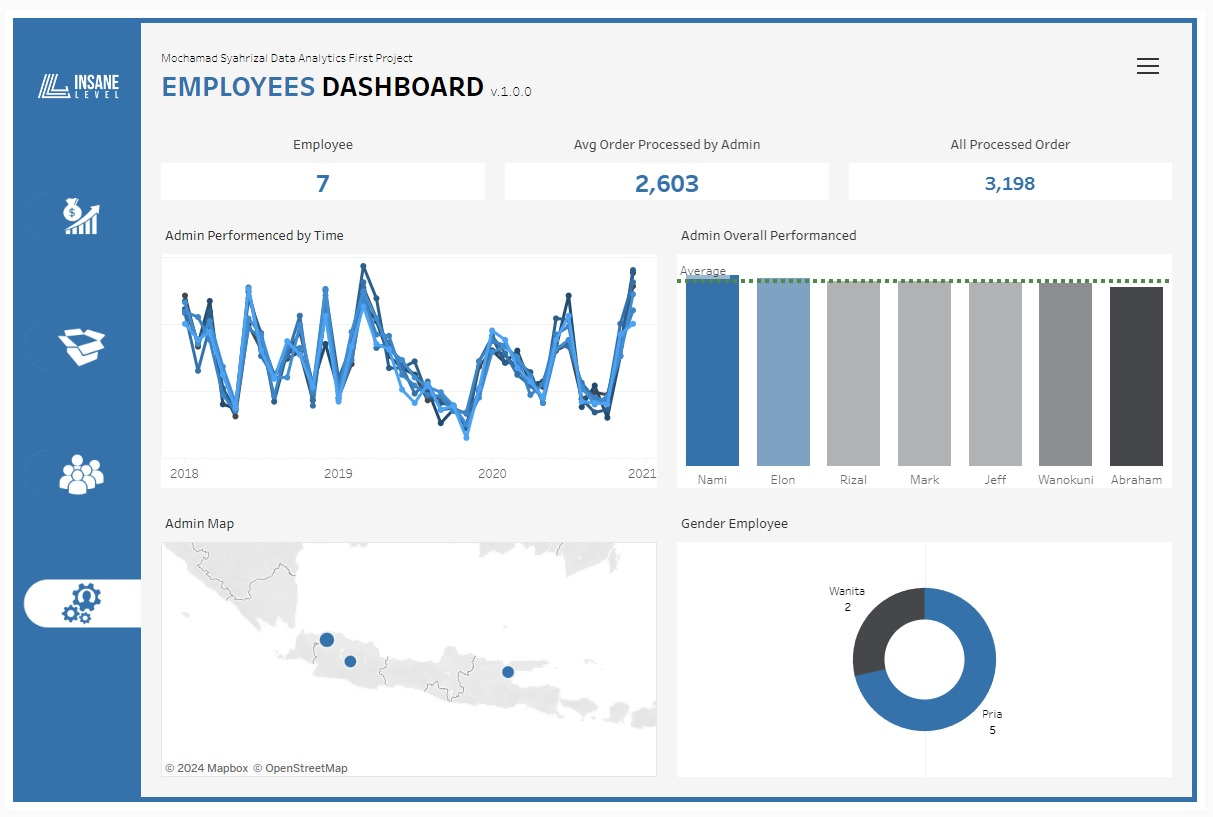

The page's visual inventory and layout, read from the dashboard file:
{"tool":"tableau","page":{"name":"Employee Dashboard","canvas":[1200,800],"ordinal":1},"visuals":[{"type":"image","param":"E:/Aset Desain/Icon PNG/Logo Insane Level-09 (1).png","box":[13,13,123,129]},{"type":"text","box":[145.8,23,639.2,86]},{"type":"blank","box":[785,23,392,86]},{"type":"dashboard-object","box":[1131,44,24,24]},{"type":"text","box":[915,46,213,46]},{"type":"blank","box":[915,92,213,32]},{"type":"worksheet","title":"Employee","mark":"Automatic","box":[146,109,344,91]},{"type":"worksheet","title":"Avg Order Processed by Admin","mark":"Automatic","box":[490,109,344,91]},{"type":"worksheet","title":"All Processed Order","mark":"Automatic","box":[834,109,343,91]},{"type":"filter","title":"Admin Performenced by Time","param":"[federated.01lx92d1nhccir14ncz2a186vefz].[none:tanggal_order:qk]","box":[915,124,213,81]},{"type":"dashboard-object","box":[13,142,123,129]},{"type":"worksheet","title":"Admin Performenced by Time","mark":"Automatic","rows":["admin_id"],"cols":["tanggal_order"],"box":[146,200,516,288]},{"type":"worksheet","title":"Admin Overall Performanced","mark":"Automatic","rows":["admin_id"],"cols":["nama"],"box":[662,200,515,288]},{"type":"blank","box":[915,205,213,32]},{"type":"filter","title":"Admin Performenced by Time","param":"[federated.01lx92d1nhccir14ncz2a186vefz].[none:nama:nk]","box":[915,237,213,64]},{"type":"dashboard-object","box":[13,271,123,129]},{"type":"blank","box":[915,301,213,32]},{"type":"filter","title":"Admin Performenced by Time","param":"[federated.01lx92d1nhccir14ncz2a186vefz].[none:domisili:nk]","box":[915,333,213,64]},{"type":"blank","box":[915,397,213,39]},{"type":"dashboard-object","box":[13,400,123,129]},{"type":"filter","title":"Admin Performenced by Time","param":"[federated.01lx92d1nhccir14ncz2a186vefz].[none:jenis_kelamin:nk]","box":[915,436,213,64]},{"type":"worksheet","title":"Admin Map","mark":"Automatic","box":[146,488,516,289]},{"type":"worksheet","title":"Gender Employee","mark":"Pie","cols":["Calculation_463307868280573955","Calculation_463307868280573955"],"box":[662,488,515,289]},{"type":"blank","box":[915,500,213,101]},{"type":"dashboard-object","box":[13,529,123,129]},{"type":"blank","box":[13,658,123,129]}]}

Visuals, with their boxes in screenshot pixels (x1, y1, x2, y2), scaled from the page's 1200x800 canvas onto the 1213x817 screenshot:
image: select_region(13, 13, 137, 145)
text: select_region(147, 23, 794, 111)
blank: select_region(794, 23, 1190, 111)
dashboard-object: select_region(1143, 45, 1168, 69)
text: select_region(925, 47, 1140, 94)
blank: select_region(925, 94, 1140, 127)
"Employee" worksheet: select_region(148, 111, 495, 204)
"Avg Order Processed by Admin" worksheet: select_region(495, 111, 843, 204)
"All Processed Order" worksheet: select_region(843, 111, 1190, 204)
"Admin Performenced by Time" filter: select_region(925, 127, 1140, 209)
dashboard-object: select_region(13, 145, 137, 277)
"Admin Performenced by Time" worksheet: select_region(148, 204, 669, 498)
"Admin Overall Performanced" worksheet: select_region(669, 204, 1190, 498)
blank: select_region(925, 209, 1140, 242)
"Admin Performenced by Time" filter: select_region(925, 242, 1140, 307)
dashboard-object: select_region(13, 277, 137, 408)
blank: select_region(925, 307, 1140, 340)
"Admin Performenced by Time" filter: select_region(925, 340, 1140, 405)
blank: select_region(925, 405, 1140, 445)
dashboard-object: select_region(13, 408, 137, 540)
"Admin Performenced by Time" filter: select_region(925, 445, 1140, 511)
"Admin Map" worksheet: select_region(148, 498, 669, 794)
"Gender Employee" worksheet (Pie marks): select_region(669, 498, 1190, 794)
blank: select_region(925, 511, 1140, 614)
dashboard-object: select_region(13, 540, 137, 672)
blank: select_region(13, 672, 137, 804)
